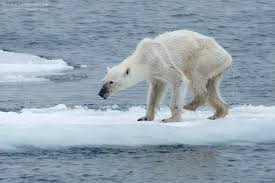PolarBear: (96, 29, 237, 123)
